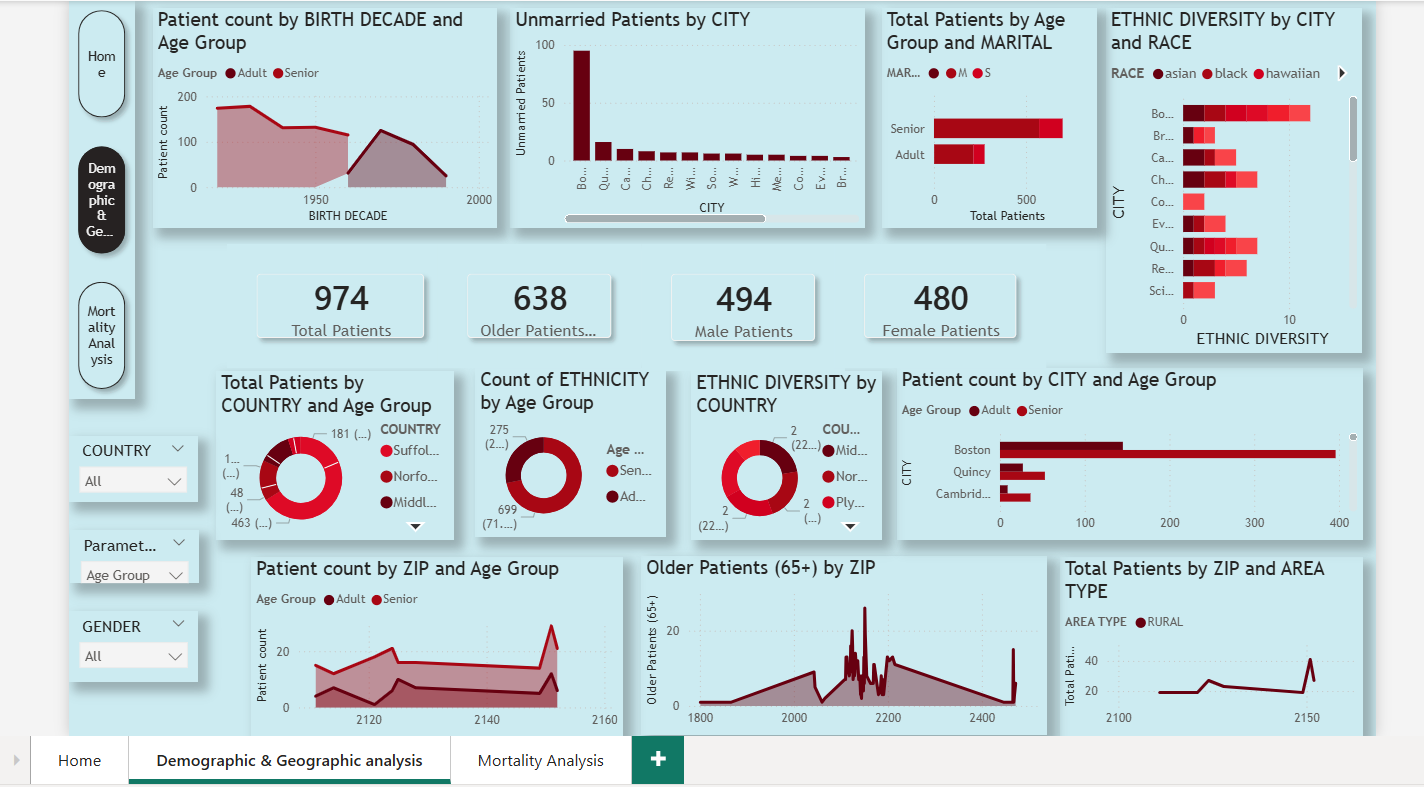

The dashboard page shown, as its layout file describes it:
{"tool":"powerbi","page":{"name":"Demographic & Geographic  analysis","canvas":[1280,720],"ordinal":1},"visuals":[{"type":"pageNavigator","box":[0,0,64.8,389.9],"z":0},{"type":"donutChart","fields":{"Series":["patients.Age Group"],"Category":["patients.COUNTY"],"Y":["patients.Total Patients"]},"box":[144.1,362.2,232.6,165.2],"z":1000},{"type":"stackedAreaChart","fields":{"Category":["patients.ZIP"],"Y":["patients.Older Patients (65+)"]},"box":[560.8,543.4,397.1,175.8],"z":2000},{"type":"barChart","fields":{"Category":["patients.Age Group"],"Y":["patients.Total Patients"],"Series":["patients.MARITAL"]},"box":[795.7,6.6,210.2,215.5],"z":3000},{"type":"slicer","fields":{"Values":["patients.COUNTY"]},"box":[0,425.6,125.6,64.8],"z":4000},{"type":"slicer","fields":{"Values":["Parameter.Parameter"]},"box":[1.3,518.1,125.6,51.5],"z":5000},{"type":"stackedAreaChart","fields":{"Category":["patients.BIRTH DECADE"],"Y":["procedures.Patient count"],"Series":["patients.Age Group"]},"box":[82,6.6,337.1,215.5],"z":6000},{"type":"clusteredColumnChart","fields":{"Category":["patients.CITY"],"Y":["patients.Unmarried Patients"]},"box":[432.2,6.6,346.3,215.5],"z":7000},{"type":"barChart","fields":{"Category":["patients.CITY"],"Y":["Parameter.ETHNIC DIVERSITY"],"Series":["patients.RACE"]},"box":[1015.1,6.6,251.1,338.4],"z":8000},{"type":"lineChart","fields":{"Category":["patients.ZIP"],"Y":["patients.Total Patients"],"Series":["patients.AREA TYPE"]},"box":[970.2,544.6,296.1,174.5],"z":9000},{"type":"areaChart","fields":{"Series":["patients.Age Group"],"Category":["patients.ZIP"],"Y":["procedures.Patient count"]},"box":[178.4,544.7,363.6,175.8],"z":10000},{"type":"clusteredBarChart","fields":{"Category":["patients.CITY"],"Y":["procedures.Patient count"],"Series":["patients.Age Group"]},"box":[810.3,359.5,456,167.9],"z":11000},{"type":"donutChart","fields":{"Category":["patients.Age Group"],"Y":["CountNonNull(patients.ETHNICITY)"]},"box":[398.5,359.6,186.5,165],"z":12000},{"type":"donutChart","fields":{"Category":["patients.COUNTY"],"Y":["Parameter.ETHNIC DIVERSITY"]},"box":[609.1,362.3,186.5,165],"z":13000},{"type":"cardVisual","fields":{"Data":["patients.Total Patients"]},"box":[154.6,237.9,222.1,121.6],"z":14000},{"type":"cardVisual","fields":{"Data":["patients.Older Patients (65+)"]},"box":[360.8,237.9,199.6,121.6],"z":15000},{"type":"cardVisual","fields":{"Data":["patients.Male Patients"]},"box":[560.4,237.9,199.6,124.2],"z":16000},{"type":"cardVisual","fields":{"Data":["patients.Female Patients"]},"box":[749.5,237.9,207.5,121.6],"z":17000},{"type":"slicer","fields":{"Values":["patients.GENDER"]},"box":[0,597.3,126.3,68.6],"z":18000}]}

Visuals, with their boxes on the page's 1280x720 design canvas (x1, y1, x2, y2). These are canvas units, not pixel positions in the 1424x787 screenshot, which may show the page scaled, cropped or inside an application window:
pageNavigator: x1=0 y1=0 x2=65 y2=390
donutChart - patients.Age Group x patients.COUNTY: x1=144 y1=362 x2=377 y2=527
stackedAreaChart - patients.ZIP x patients.Older Patients (65+): x1=561 y1=543 x2=958 y2=719
barChart - patients.Age Group x patients.Total Patients: x1=796 y1=7 x2=1006 y2=222
slicer - patients.COUNTY: x1=0 y1=426 x2=126 y2=490
slicer - Parameter.Parameter: x1=1 y1=518 x2=127 y2=570
stackedAreaChart - patients.BIRTH DECADE x procedures.Patient count: x1=82 y1=7 x2=419 y2=222
clusteredColumnChart - patients.CITY x patients.Unmarried Patients: x1=432 y1=7 x2=778 y2=222
barChart - patients.CITY x Parameter.ETHNIC DIVERSITY: x1=1015 y1=7 x2=1266 y2=345
lineChart - patients.ZIP x patients.Total Patients: x1=970 y1=545 x2=1266 y2=719
areaChart - patients.Age Group x patients.ZIP: x1=178 y1=545 x2=542 y2=720
clusteredBarChart - patients.CITY x procedures.Patient count: x1=810 y1=360 x2=1266 y2=527
donutChart - patients.Age Group x CountNonNull(patients.ETHNICITY): x1=398 y1=360 x2=585 y2=525
donutChart - patients.COUNTY x Parameter.ETHNIC DIVERSITY: x1=609 y1=362 x2=796 y2=527
cardVisual - patients.Total Patients: x1=155 y1=238 x2=377 y2=360
cardVisual - patients.Older Patients (65+): x1=361 y1=238 x2=560 y2=360
cardVisual - patients.Male Patients: x1=560 y1=238 x2=760 y2=362
cardVisual - patients.Female Patients: x1=750 y1=238 x2=957 y2=360
slicer - patients.GENDER: x1=0 y1=597 x2=126 y2=666
